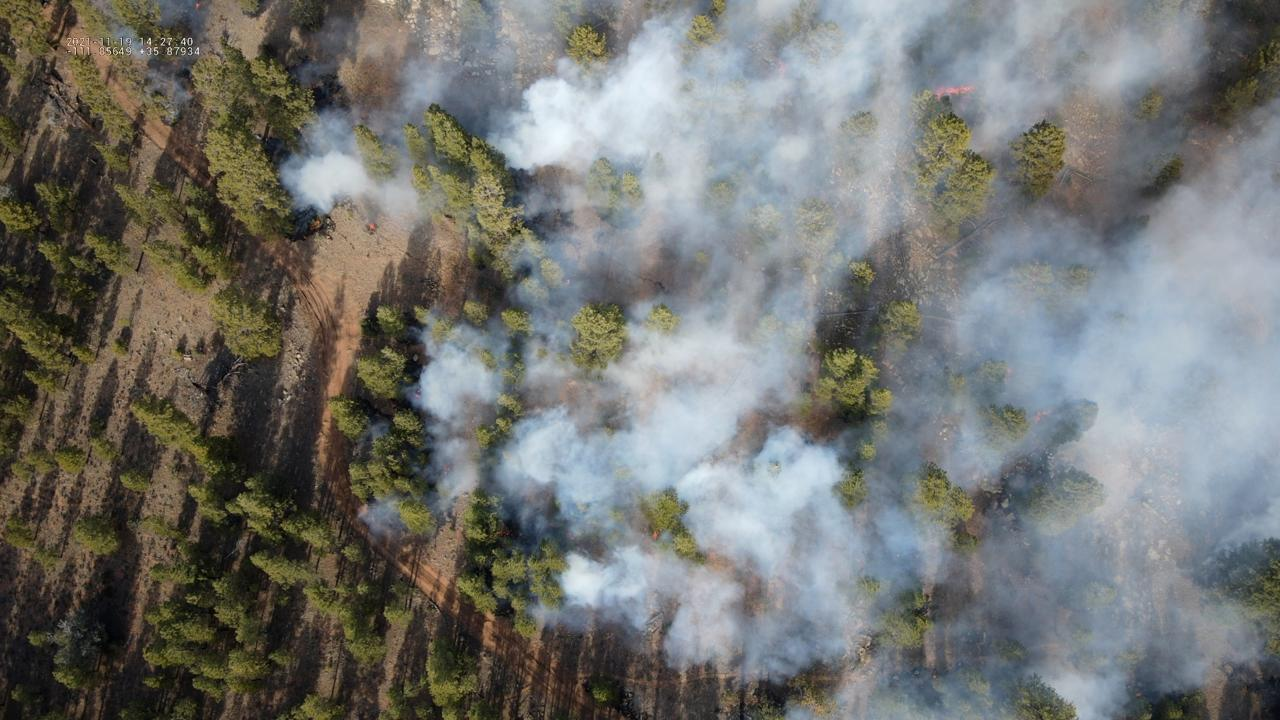fire: (932, 85, 976, 102), (1031, 410, 1055, 423), (775, 59, 789, 80), (309, 217, 320, 230), (193, 0, 201, 9), (652, 530, 659, 540), (368, 223, 377, 230), (415, 389, 421, 397)
smoke: (269, 0, 1280, 720), (144, 0, 211, 107), (114, 29, 148, 58)
